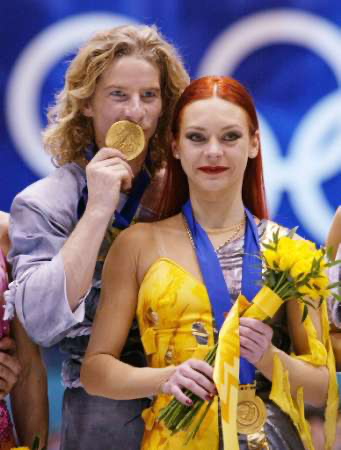Face: (173, 108, 251, 191), (98, 67, 162, 156)
